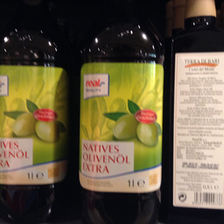oil: (75, 1, 165, 224), (1, 3, 74, 223), (165, 1, 224, 216)
